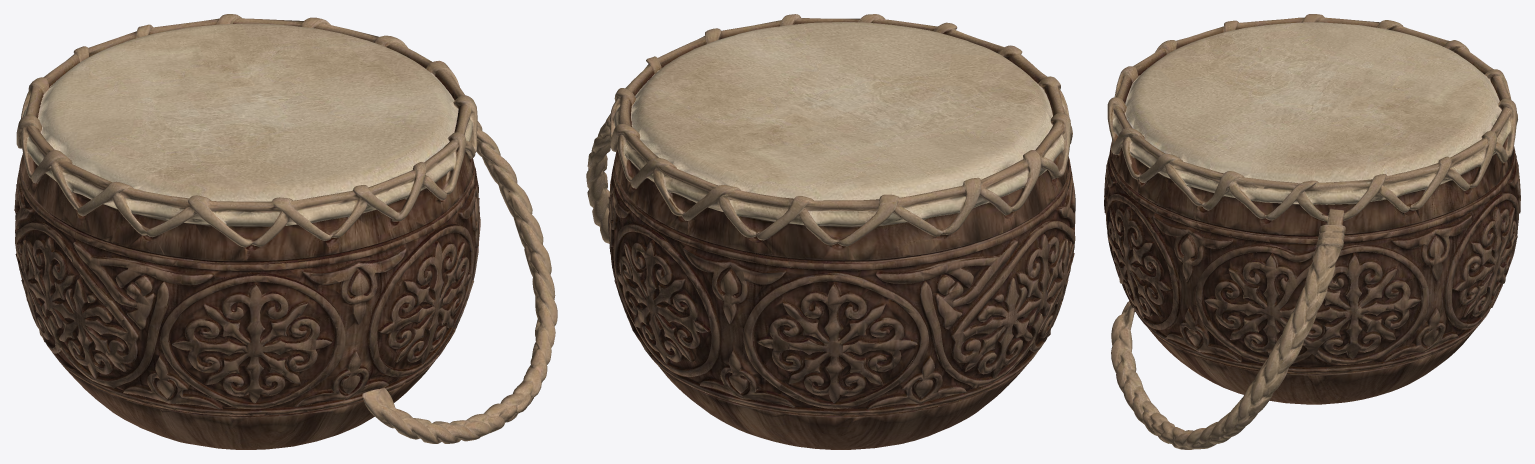
Rendered from dauylpaz.glb.
3 renders of one model, left to right at view 1: azimuth 30°, elevation 25°; view 2: azimuth 150°, elevation 25°; view 3: azimuth 270°, elevation 25°, orthographic. The views are drawn at different scales.
Bounding box in the file's own units: 1.9 × 1.15 × 1.62.
1 material, 1 textured.
